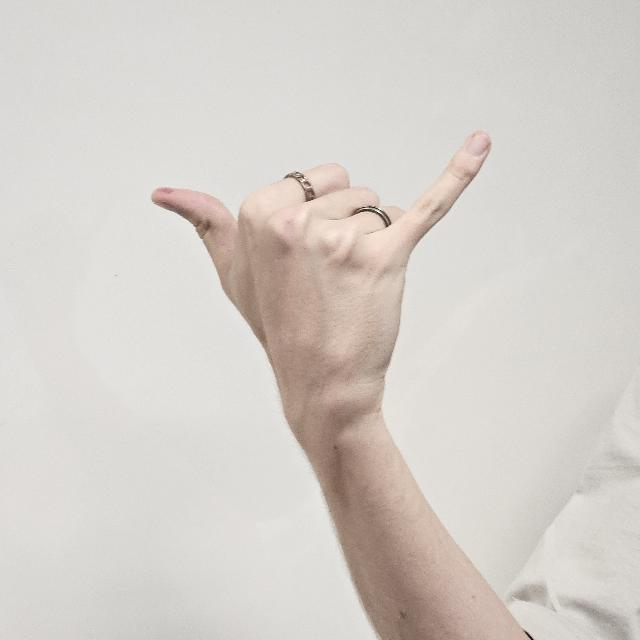Direita: (151, 116, 487, 464)
